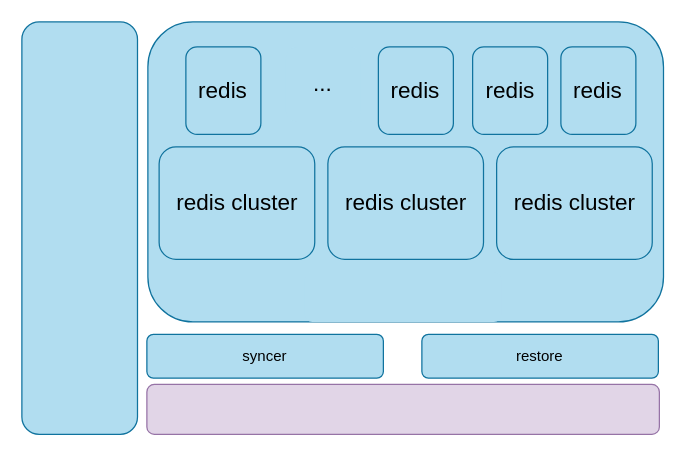
The diagram is 686 pixels wide and 456 high, and some of its shapes have lost their labels. The box of each missing label's shape, as (x1, y1, x2, y2) in pixels:
manage dashboad: (21, 21, 138, 434)
Multi-Tenancy redis pool: (304, 271, 501, 321)
TiKV: (146, 383, 659, 434)
